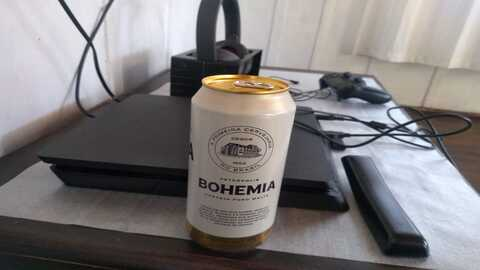bohemia: (184, 77, 291, 242)
